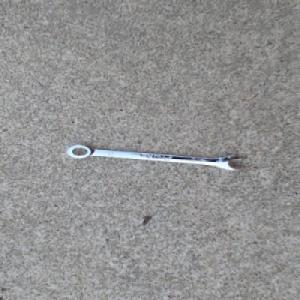Wrench: (65, 143, 246, 172)
